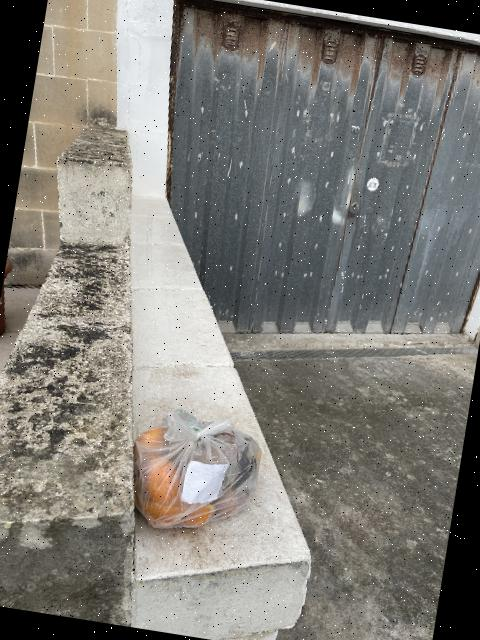Organic -White-: (133, 409, 261, 528)
